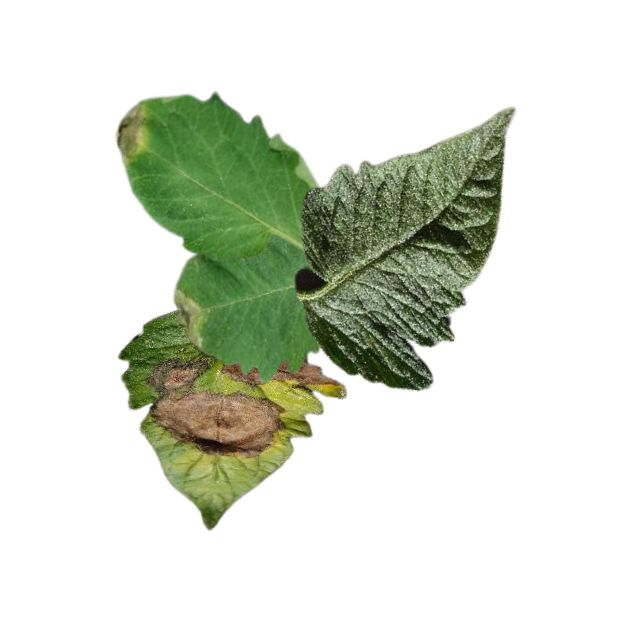Late_blight: (146, 354, 287, 456), (114, 99, 152, 167), (171, 289, 204, 348), (273, 361, 340, 387), (222, 363, 261, 387)
